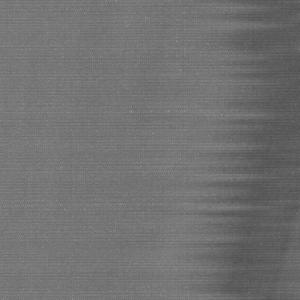Wrinkle: (186, 1, 300, 300)
